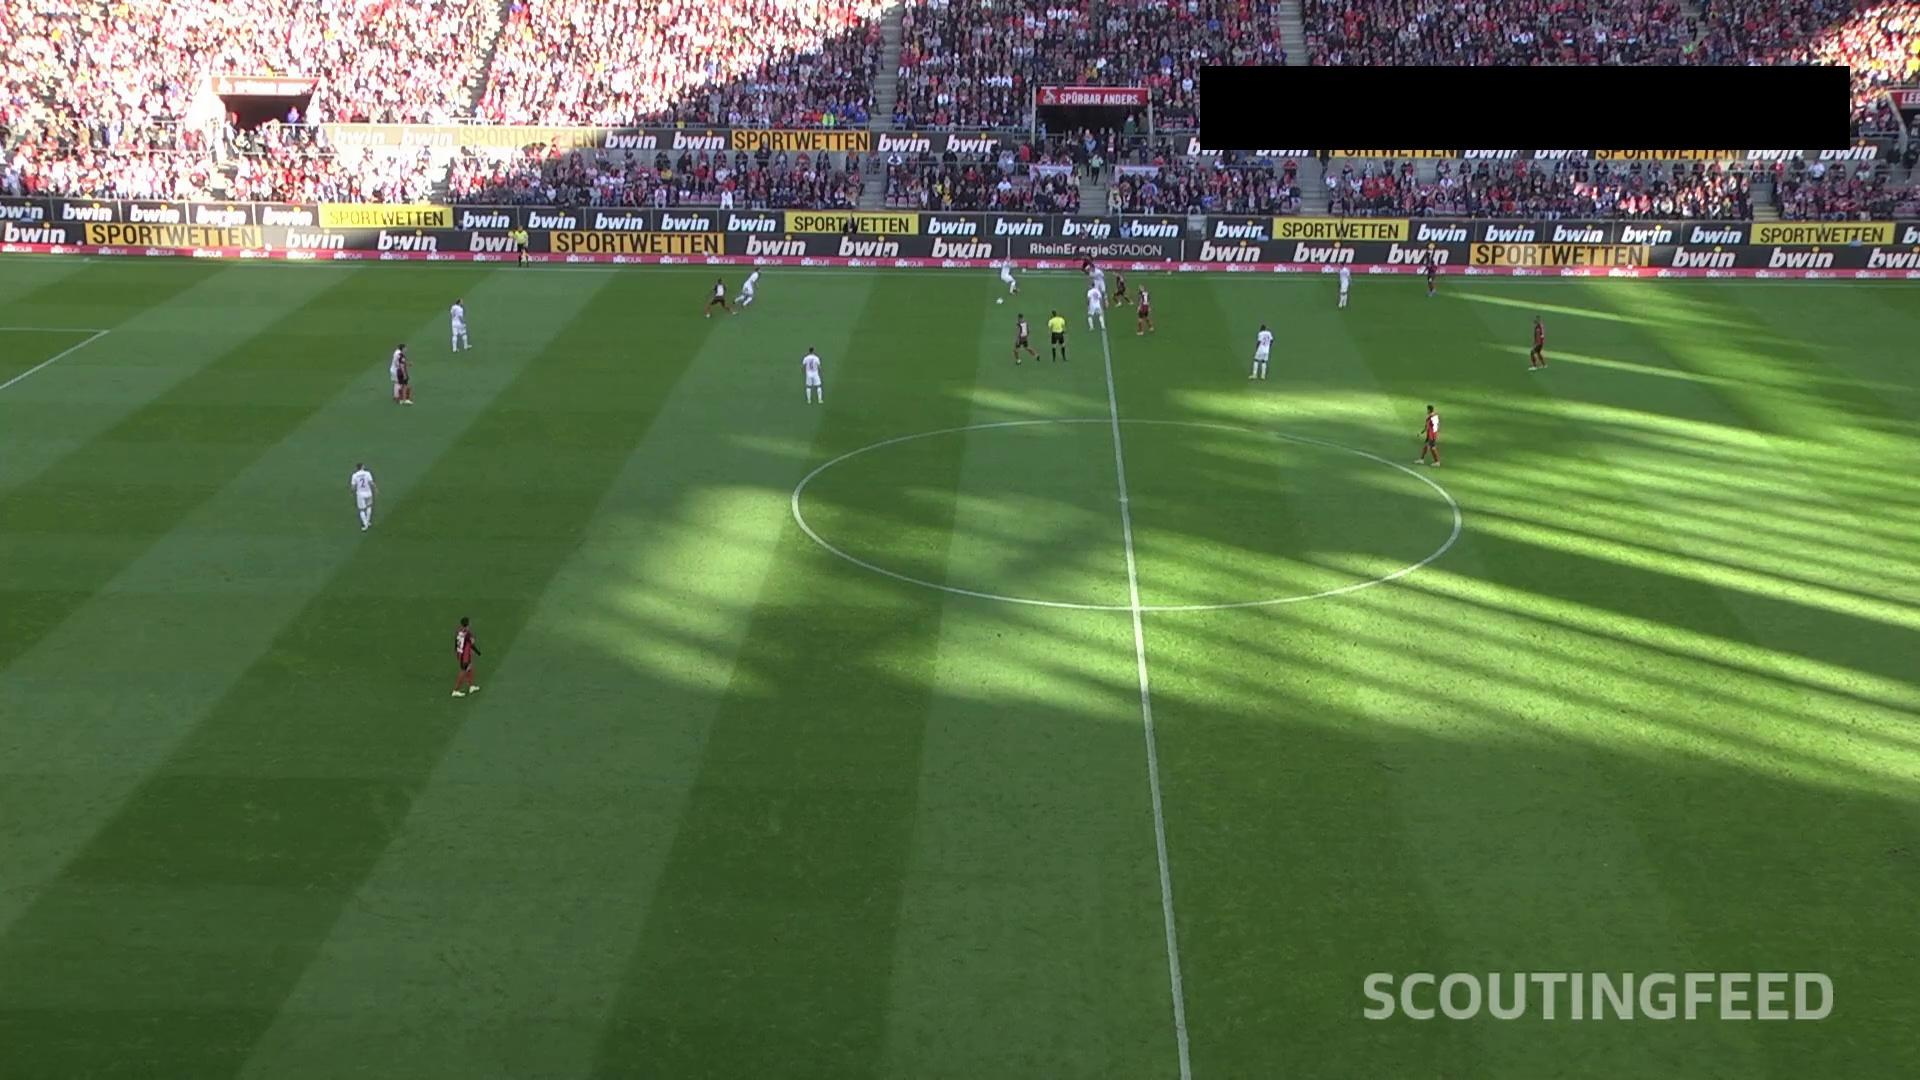Location-of-ball: (988, 290, 1009, 310)
